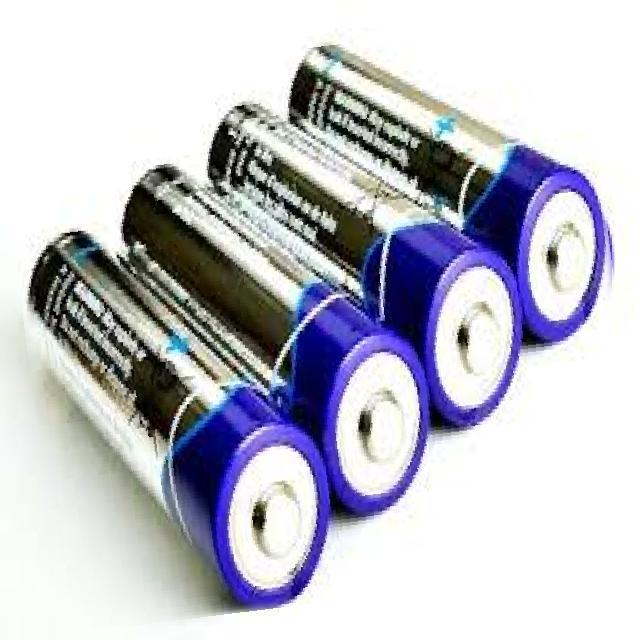Battery: (17, 228, 336, 611), (120, 162, 438, 518), (207, 102, 523, 429), (286, 41, 606, 347)
